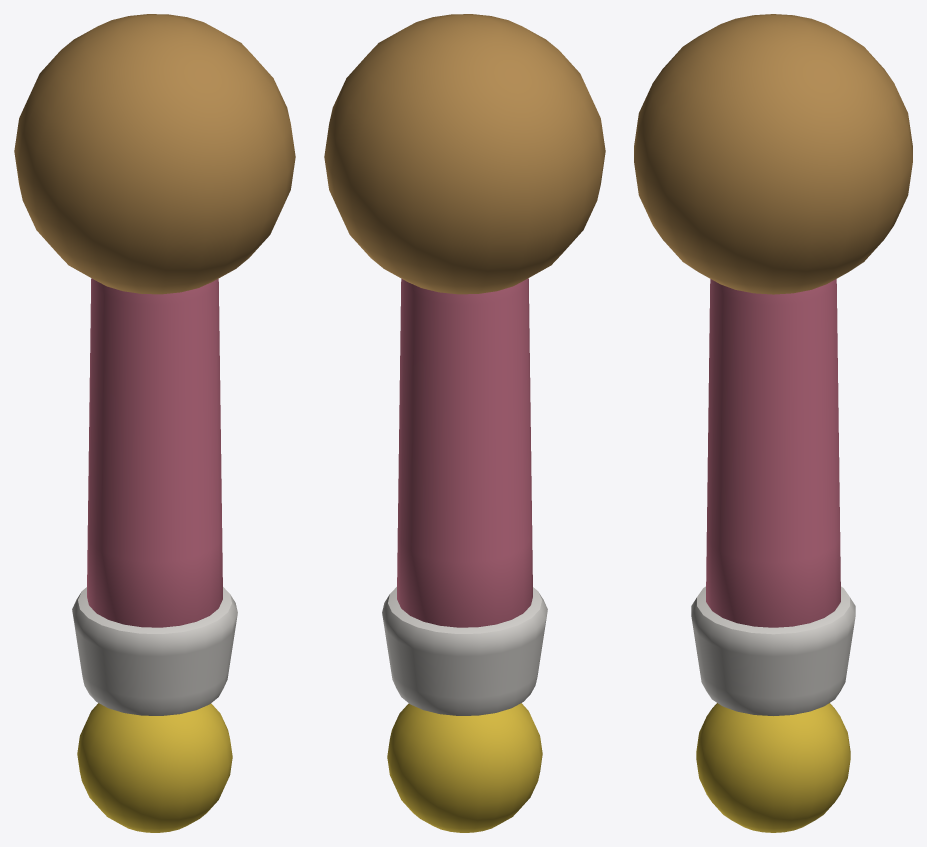
File: Arm_Planter_R.fbx
The picture shows the model from 3 angles, left to right: view 1: azimuth 30°, elevation 25°; view 2: azimuth 150°, elevation 25°; view 3: azimuth 270°, elevation 25°; orthographic projection.
Parts seen in each view (by area): view 1: Arm_Planter_R; view 2: Arm_Planter_R; view 3: Arm_Planter_R.
Boxes of the visible parts, x1,y1,x2,y2 form: Arm_Planter_R: [14, 14, 295, 832]; Arm_Planter_R: [324, 14, 605, 832]; Arm_Planter_R: [634, 14, 912, 832].
Size of the model in its own units: 0.0608 by 0.1904 by 0.0602.
